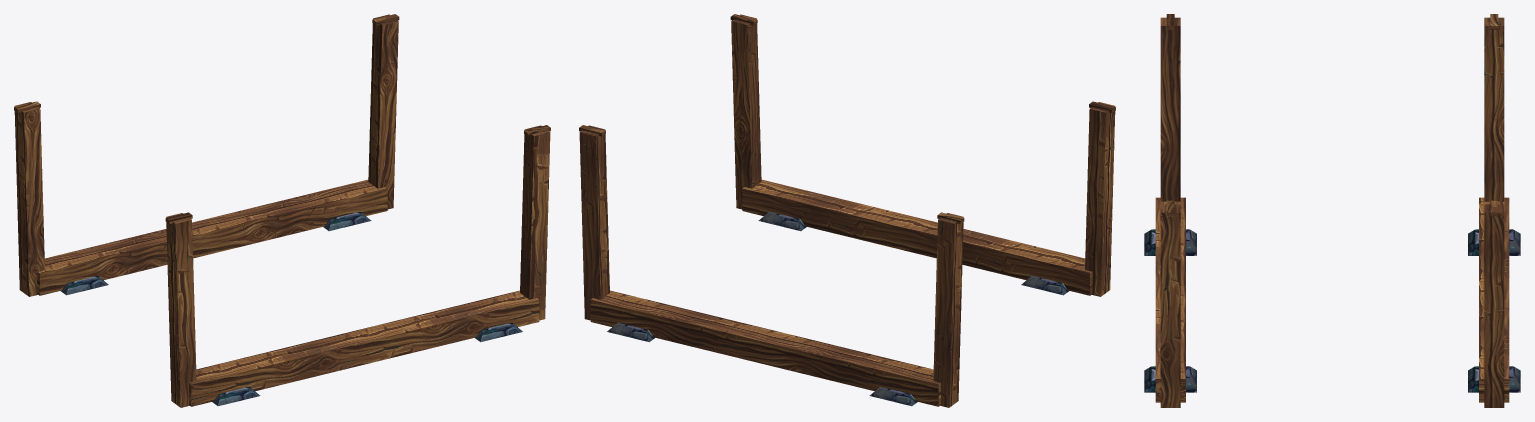
File: pile-logs.glb
3 views of the same model, side by side, from view 1: azimuth 30°, elevation 25°; view 2: azimuth 150°, elevation 25°; view 3: azimuth 270°, elevation 25° (orthographic). The views are drawn at different scales.
Visible parts, largest first — view 1: pile-logs; view 2: pile-logs; view 3: pile-logs.
Part boxes in pixels (x1,y1,x2,y2): pile-logs: [14, 14, 550, 407]; pile-logs: [579, 14, 1115, 407]; pile-logs: [1144, 14, 1520, 407].
Size of the model in its own units: 2.32 by 1.09 by 1.86.
2 materials, 2 textured.
